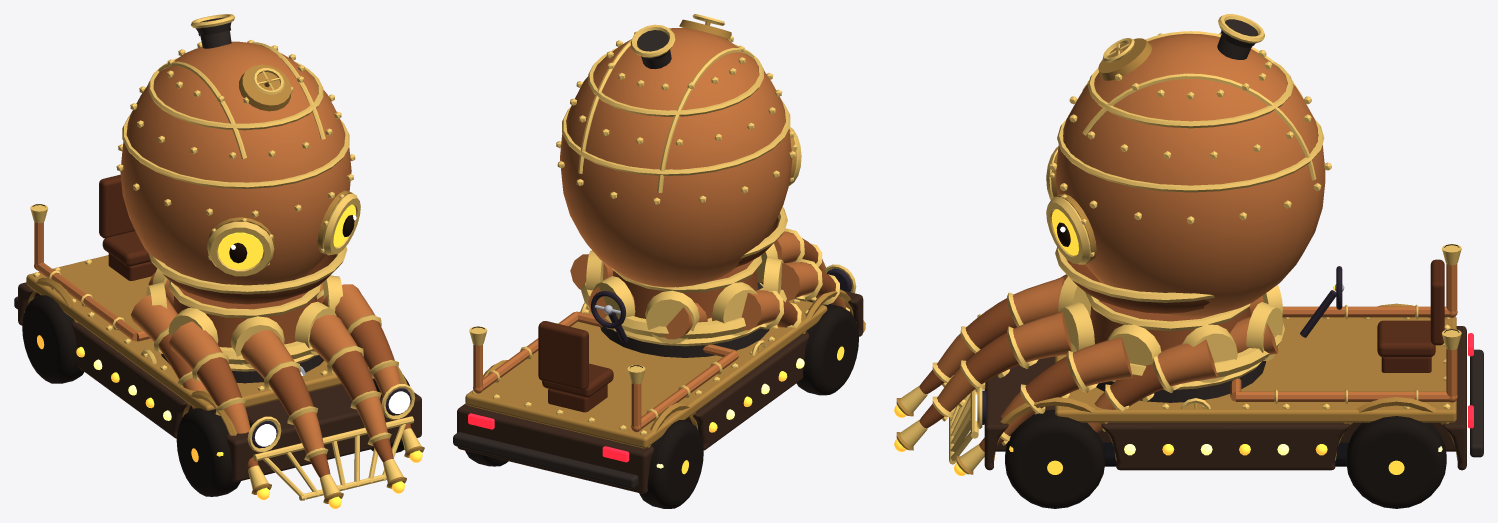
Rendered from calamari_inferno.glb.
3 views of the same model, side by side, from view 1: azimuth 30°, elevation 25°; view 2: azimuth 150°, elevation 25°; view 3: azimuth 270°, elevation 25° (orthographic). The views are drawn at different scales.
Visible parts, largest first — view 1: mantle, platform, deck, wheel_FR_tyre, wheel_RR_tyre, neck, skirt_rim, mantle_band_1, seat_back, eye_rim_0, mantle_band_0, mantle_skirt (+31 smaller); view 2: mantle, deck, platform, wheel_FR_tyre, wheel_RR_tyre, seat_back, bumper_rear, mantle_band_1, boiler, collar, mantle_band_0, neck (+23 smaller); view 3: mantle, deck, platform, wheel_FL_tyre, wheel_RL_tyre, mantle_band_1, pipe_1, arm0_seg0, seat_cushion, arm1_seg0, neck, arm2_seg0 (+29 smaller).
Boxes of the visible parts, x1,y1,x2,y2 form: mantle: (120,41,351,285); platform: (18,282,421,481); deck: (26,255,369,410); wheel_FR_tyre: (176,408,240,496); wheel_RR_tyre: (22,295,83,383); neck: (173,287,316,347); skirt_rim: (148,246,347,294); mantle_band_1: (122,114,349,188); seat_back: (99,174,135,238); eye_rim_0: (207,221,274,276); mantle_band_0: (148,57,323,130); mantle_skirt: (163,254,336,304); mantle: (560,28,792,287); deck: (465,299,827,448); platform: (457,282,863,493); wheel_FR_tyre: (796,304,858,395); wheel_RR_tyre: (639,420,703,508); seat_back: (538,321,588,390); bumper_rear: (453,432,638,488); mantle_band_1: (562,101,790,175); boiler: (600,282,769,357); collar: (581,280,786,339); mantle_band_0: (588,44,763,116); neck: (612,260,758,320); mantle: (1056,34,1325,317); deck: (1055,316,1456,422); platform: (984,326,1466,470); wheel_FL_tyre: (1005,409,1105,508); wheel_RL_tyre: (1346,416,1446,508); mantle_band_1: (1057,119,1324,192); pipe_1: (1236,391,1449,401); arm0_seg0: (1013,311,1071,362); seat_cushion: (1377,320,1435,357); arm1_seg0: (1072,337,1132,386); neck: (1090,300,1250,350); arm2_seg0: (1157,339,1218,386).
Bounding box in the file's own units: 2.61 × 4.83 × 5.87.
